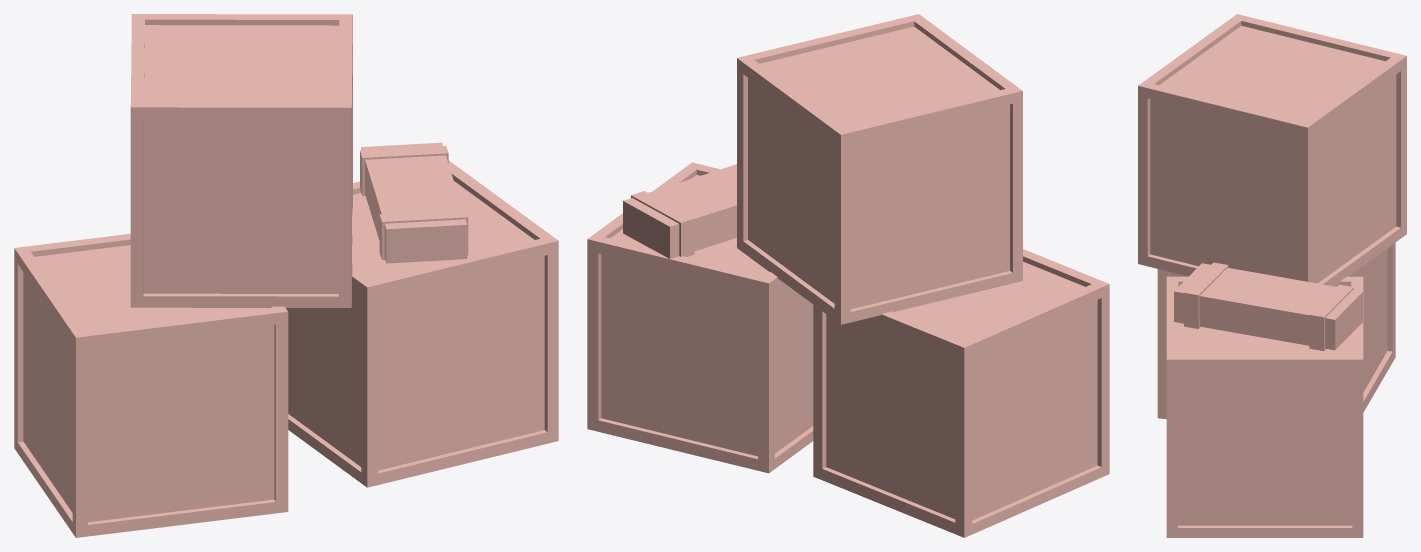
Rendered from Mega_Asset_s_Pack_Cube_295.FBX.
The picture shows the model from 3 angles, left to right: view 1: azimuth 30°, elevation 25°; view 2: azimuth 150°, elevation 25°; view 3: azimuth 270°, elevation 25°; orthographic projection. The views are drawn at different scales.
Parts seen in each view (by area): view 1: Mega_Asset_s_Pack_Cube_295; view 2: Mega_Asset_s_Pack_Cube_295; view 3: Mega_Asset_s_Pack_Cube_295.
Boxes of the visible parts, x1,y1,x2,y2 form: Mega_Asset_s_Pack_Cube_295: (14, 14, 558, 537); Mega_Asset_s_Pack_Cube_295: (587, 14, 1109, 537); Mega_Asset_s_Pack_Cube_295: (1138, 14, 1406, 537).
Size of what is drawn, in the model's own units: 310 by 176 by 257.
